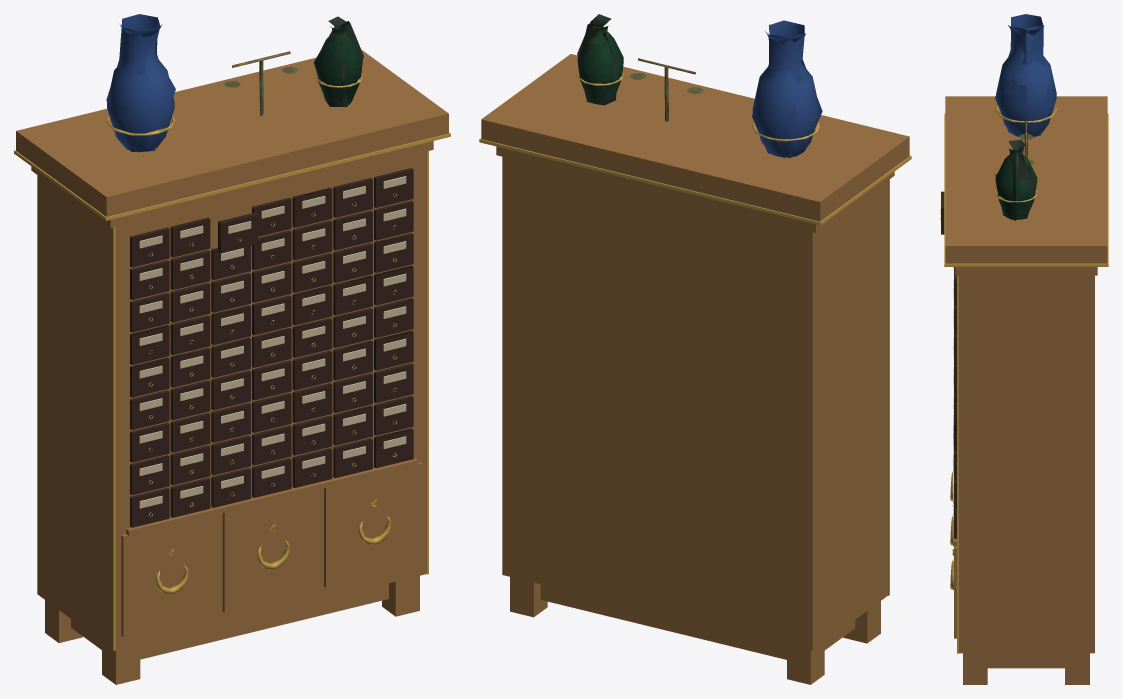
The model's file is prop_medicine_cabinet.gltf.
The picture shows the model from 3 angles, left to right: view 1: azimuth 30°, elevation 25°; view 2: azimuth 150°, elevation 25°; view 3: azimuth 270°, elevation 25°; orthographic projection. The views are drawn at different scales.
Visible parts, largest first — view 1: Far, Near; view 2: Far, Near; view 3: Far, Near.
Part boxes in pixels (x1=…): Far: x1=14, y1=14, x2=450, y2=684; Near: x1=14, y1=24, x2=450, y2=650; Far: x1=480, y1=14, x2=911, y2=684; Near: x1=479, y1=25, x2=911, y2=595; Far: x1=941, y1=14, x2=1108, y2=684; Near: x1=940, y1=25, x2=1108, y2=653.
Bounding box in the file's own units: 1.43 × 2.47 × 0.6758.
9 materials, 5 textured.
